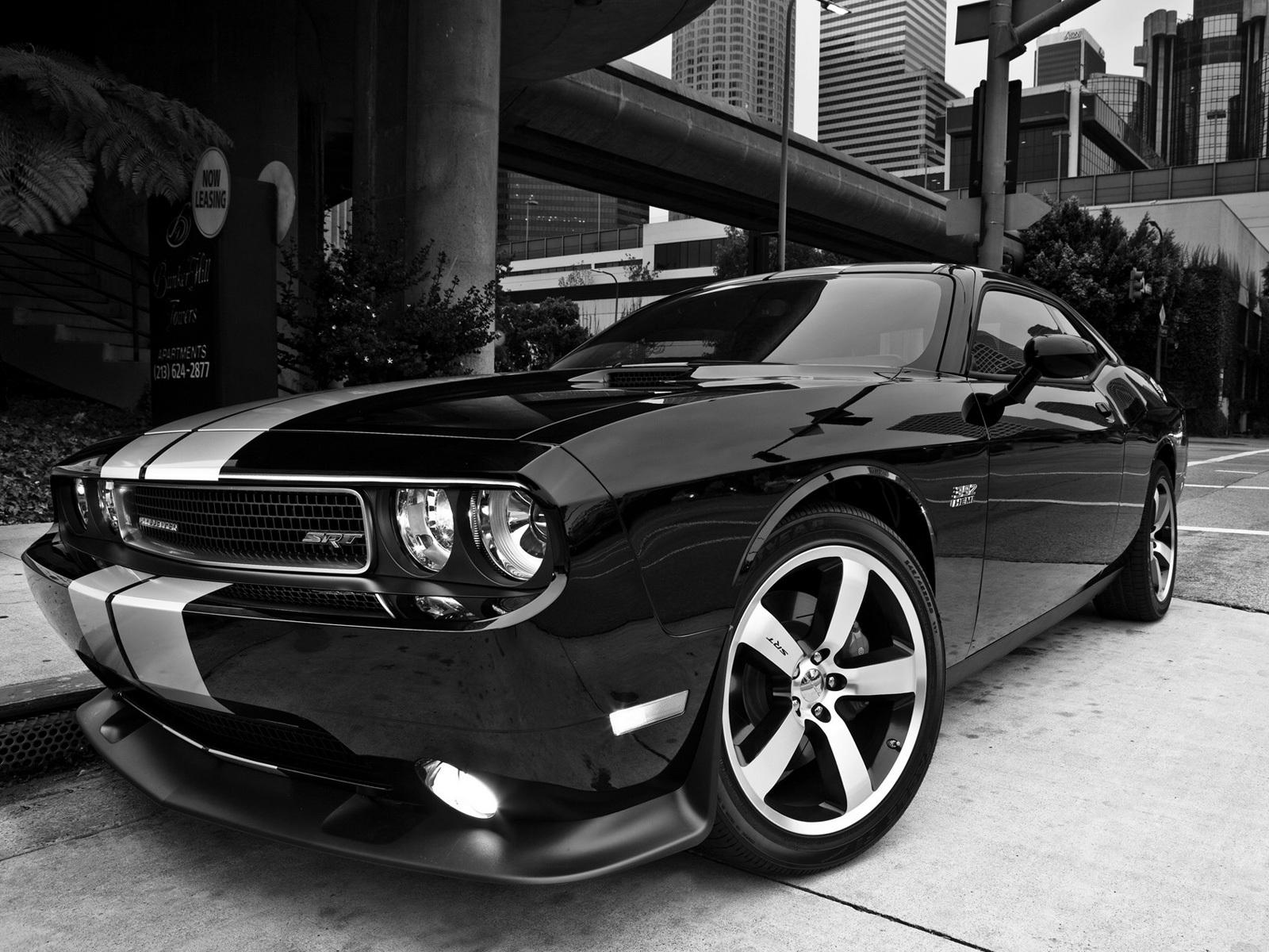car: (29, 265, 1179, 889)
